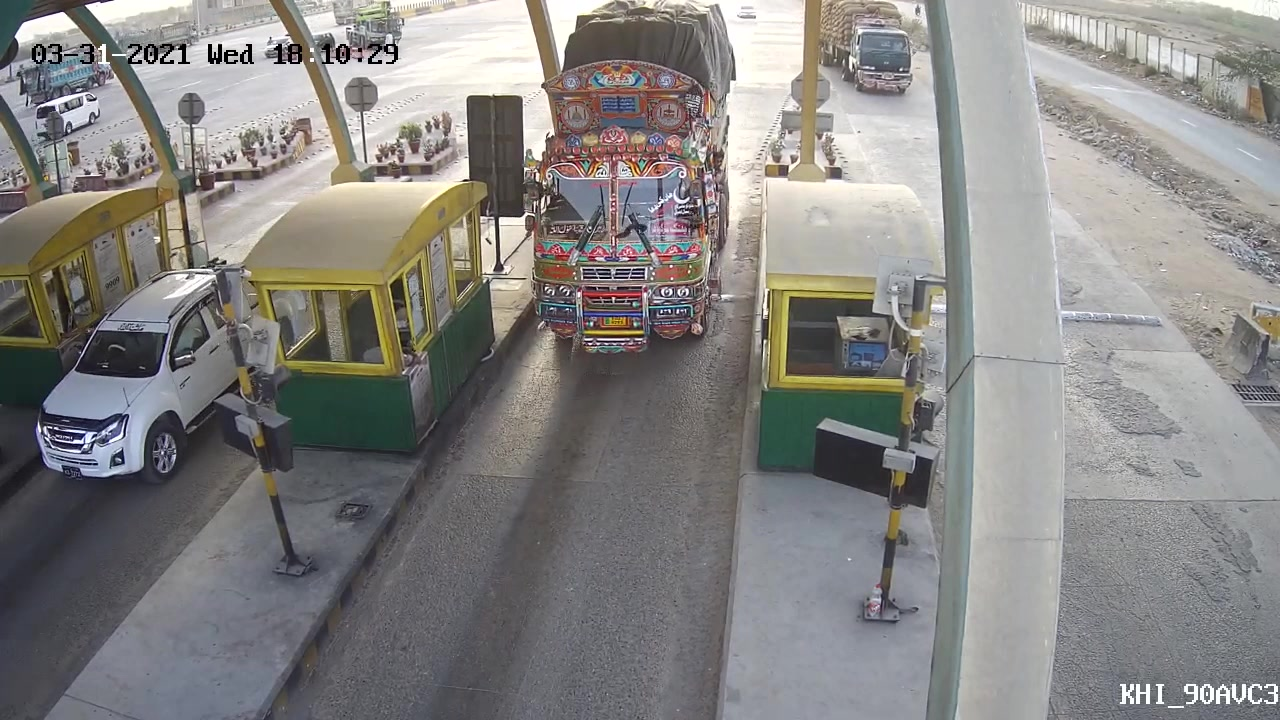F5: (512, 1, 744, 367)
